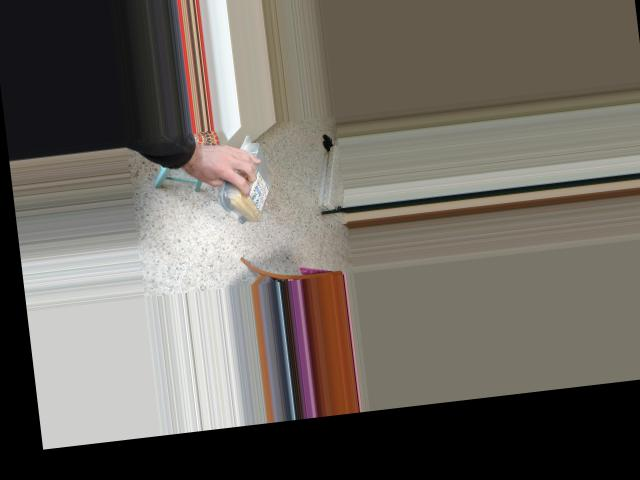cheese: (221, 133, 274, 224)
